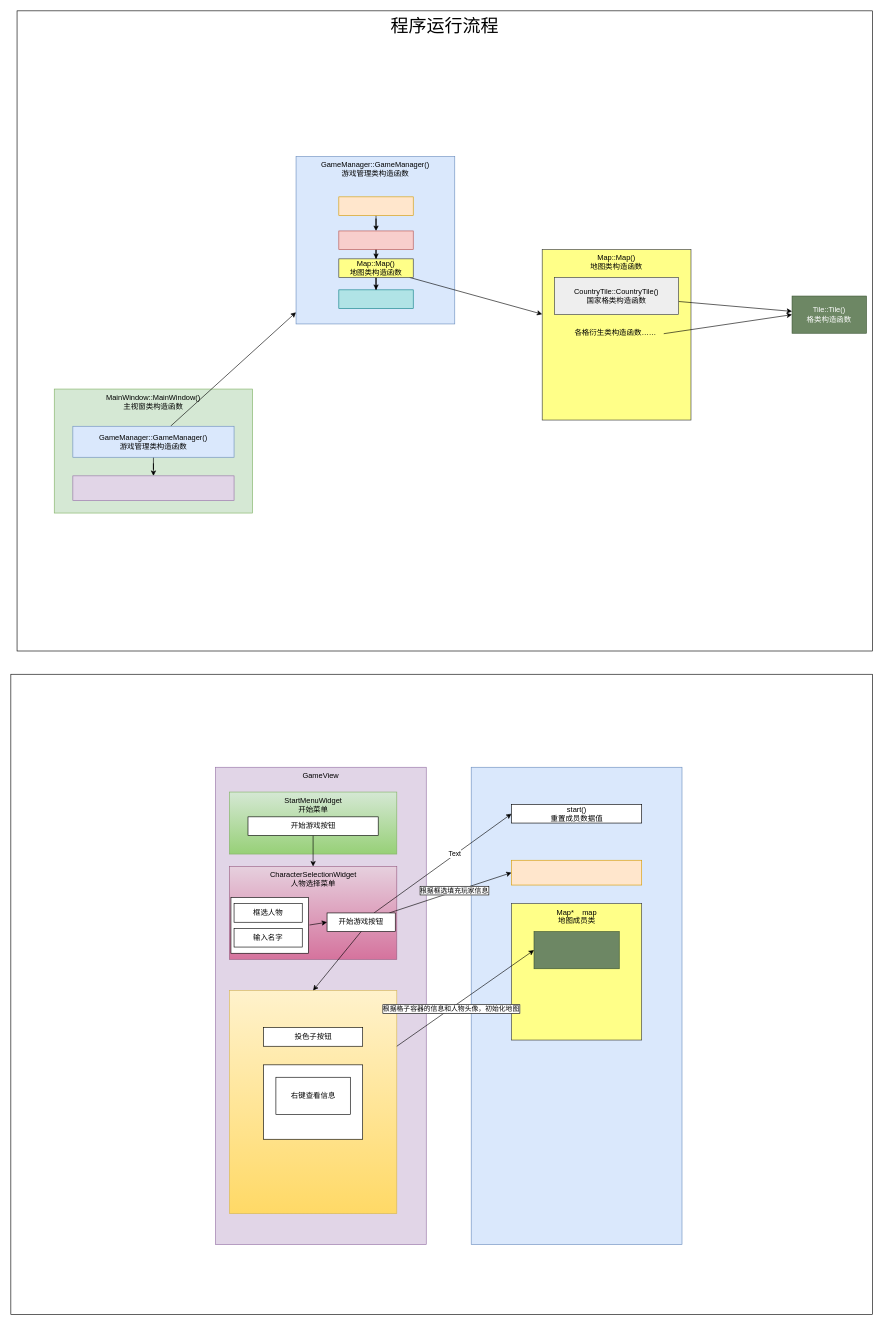
The diagram is 884 pixels wide and 1326 high, and some of its shapes have lost their labels. The shapes that lost their labels are listed below. From the top down, each one's box as (x1, y1, x2, y2) in pixels, then its label:
(338, 196, 413, 215): Player::Player() 玩家类构造函数
(338, 230, 413, 250): Bank::Bank() 银行类构造函数
(338, 289, 413, 308): Dice::Dice() 色子类构造函数
(72, 475, 234, 501): GameView::GameView() 游戏界面类构造函数
(511, 860, 642, 885): QVector<Player*> players 玩家容器
(533, 931, 619, 969): QVector<Tile*> tiles 格子对象容器
(10, 674, 873, 1314): 交互逻辑
(471, 767, 682, 1245): GameManager
(263, 1064, 363, 1139): 格子
(229, 990, 397, 1214): GameBoardWidget 地图菜单
